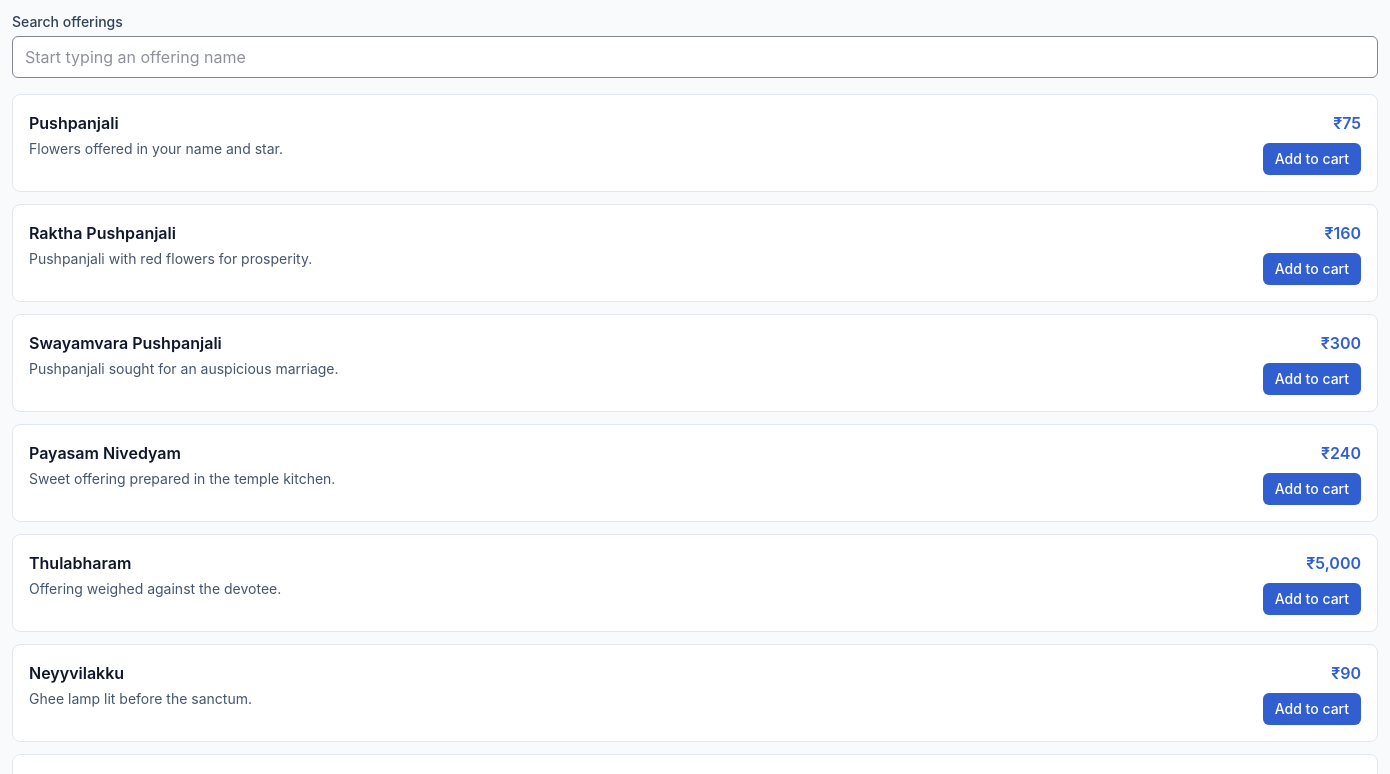
TempleOfferings › shows Pushpanjali and hides offerings that do not match when "push" is typed
Expected: the heading "Pushpanjali" is shown, [29,113,119,133]
Type "push" into the search field labelled "Search offerings" at (695, 57), box [12,36,1378,78]
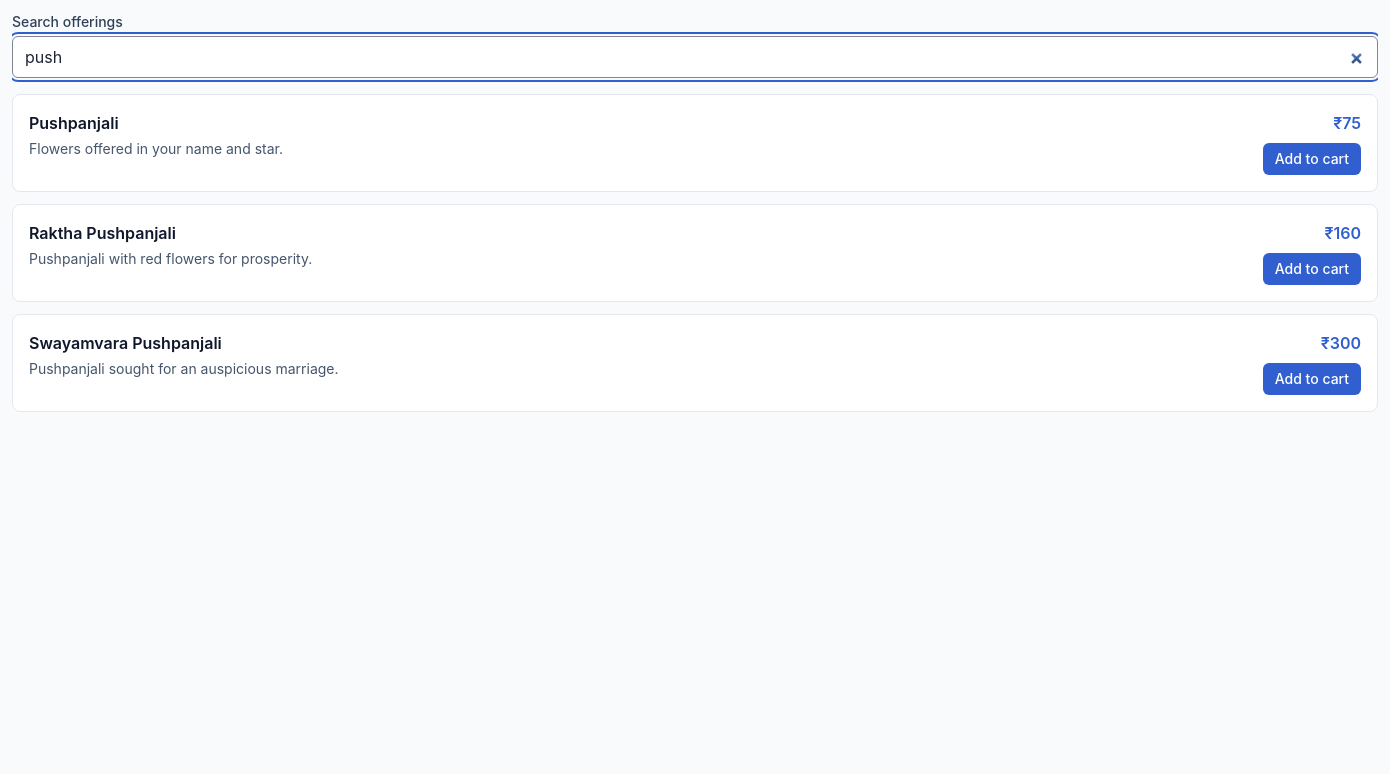
Expected: the heading "Pushpanjali" is shown, [29,113,119,133]
Expected: the heading "Thulabharam" is gone
Expected: the heading "Neyyvilakku" is gone
